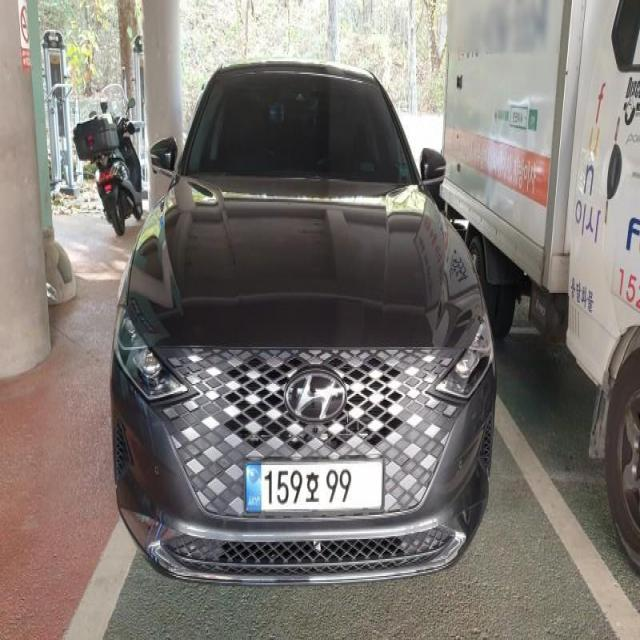car: (108, 43, 508, 591)
illegal_plate: (244, 457, 386, 520)
